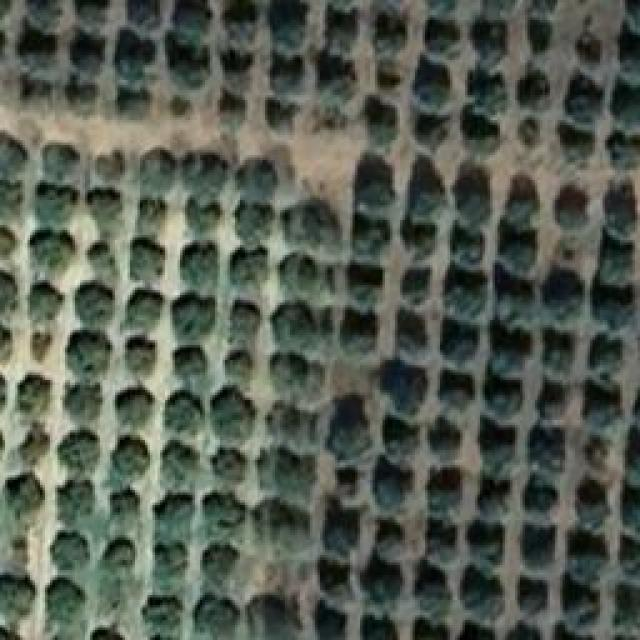Tree: (170, 282, 229, 341), (134, 148, 190, 209), (283, 200, 339, 257), (455, 108, 508, 168), (328, 400, 375, 465), (347, 560, 404, 612), (513, 60, 560, 121), (450, 173, 496, 235), (3, 470, 52, 528), (370, 462, 418, 521), (268, 350, 318, 406), (460, 575, 512, 628), (183, 148, 233, 201), (318, 0, 371, 50), (248, 592, 303, 640), (385, 303, 434, 356), (255, 500, 302, 555), (278, 253, 327, 303), (30, 223, 78, 274), (140, 583, 183, 639), (595, 233, 640, 286), (225, 245, 274, 293), (423, 418, 472, 466), (355, 158, 402, 208), (315, 48, 361, 99), (205, 390, 252, 439), (357, 100, 404, 149), (270, 300, 313, 353), (410, 105, 453, 158), (468, 520, 510, 574), (258, 454, 301, 506), (65, 328, 106, 382), (150, 540, 197, 587), (590, 278, 637, 325), (110, 80, 158, 126), (318, 505, 358, 560), (350, 260, 393, 311), (540, 273, 581, 326), (48, 430, 95, 476), (217, 43, 261, 92), (493, 283, 536, 333), (445, 265, 484, 320), (42, 578, 87, 625), (417, 7, 462, 54), (18, 25, 61, 74), (413, 55, 455, 105), (268, 390, 309, 441), (165, 394, 205, 446), (90, 148, 135, 194), (20, 275, 65, 321), (267, 0, 311, 47), (196, 592, 240, 639), (420, 470, 467, 514), (563, 525, 612, 567), (575, 415, 620, 460), (515, 472, 559, 518), (437, 371, 484, 414), (557, 578, 604, 621), (225, 203, 274, 244), (125, 285, 171, 328), (235, 155, 281, 198), (215, 0, 262, 42), (378, 415, 420, 462), (0, 560, 32, 621), (398, 265, 440, 311), (60, 383, 101, 430), (570, 472, 611, 519), (128, 240, 168, 288), (370, 0, 420, 38), (602, 178, 640, 228), (165, 33, 205, 80), (515, 525, 554, 573), (125, 202, 167, 246), (160, 443, 204, 485), (578, 330, 622, 372), (263, 95, 304, 140), (200, 483, 239, 530), (340, 310, 379, 357), (348, 218, 392, 259), (480, 438, 521, 482), (117, 335, 162, 375), (118, 25, 156, 72), (490, 335, 528, 382), (68, 28, 105, 76), (183, 240, 219, 289), (162, 0, 217, 32), (75, 0, 120, 39), (550, 182, 588, 228), (490, 388, 527, 435), (0, 133, 34, 184), (30, 178, 71, 220), (265, 50, 305, 93), (73, 280, 111, 325), (467, 65, 501, 115), (50, 533, 97, 569), (12, 373, 45, 424), (473, 20, 515, 60), (90, 588, 133, 627), (583, 371, 622, 414), (410, 173, 444, 222), (218, 347, 254, 393), (148, 493, 189, 533), (80, 193, 119, 235), (178, 193, 220, 232), (80, 240, 119, 281), (448, 233, 489, 272), (385, 365, 419, 412), (18, 80, 53, 125), (210, 90, 249, 130), (50, 480, 86, 523), (433, 330, 481, 362), (68, 78, 105, 119), (570, 23, 606, 65), (498, 230, 533, 273), (535, 375, 568, 420), (518, 580, 557, 618), (120, 393, 155, 435), (498, 170, 533, 212), (173, 343, 211, 381), (520, 18, 559, 54), (22, 326, 58, 365), (208, 445, 243, 485), (318, 552, 348, 598), (610, 585, 640, 631), (535, 425, 573, 461), (325, 470, 364, 505), (572, 78, 604, 120), (128, 0, 164, 37), (563, 125, 599, 162), (18, 430, 53, 468), (453, 615, 506, 640), (108, 495, 139, 537), (407, 218, 441, 256), (108, 535, 138, 577), (355, 612, 400, 640), (0, 175, 28, 220), (545, 338, 580, 374), (417, 570, 451, 607), (313, 608, 352, 640), (476, 485, 508, 524), (23, 0, 74, 24), (115, 442, 152, 475), (222, 300, 255, 337), (374, 523, 404, 563), (615, 482, 640, 530), (423, 525, 457, 560), (610, 125, 640, 163), (377, 62, 410, 96), (508, 615, 551, 640), (615, 25, 640, 68), (605, 80, 637, 113), (0, 269, 21, 319), (515, 113, 544, 149), (203, 548, 233, 582), (414, 617, 457, 640), (620, 422, 640, 467), (165, 93, 194, 120), (0, 220, 19, 259), (0, 321, 16, 364), (525, 0, 560, 19), (622, 540, 640, 565)
